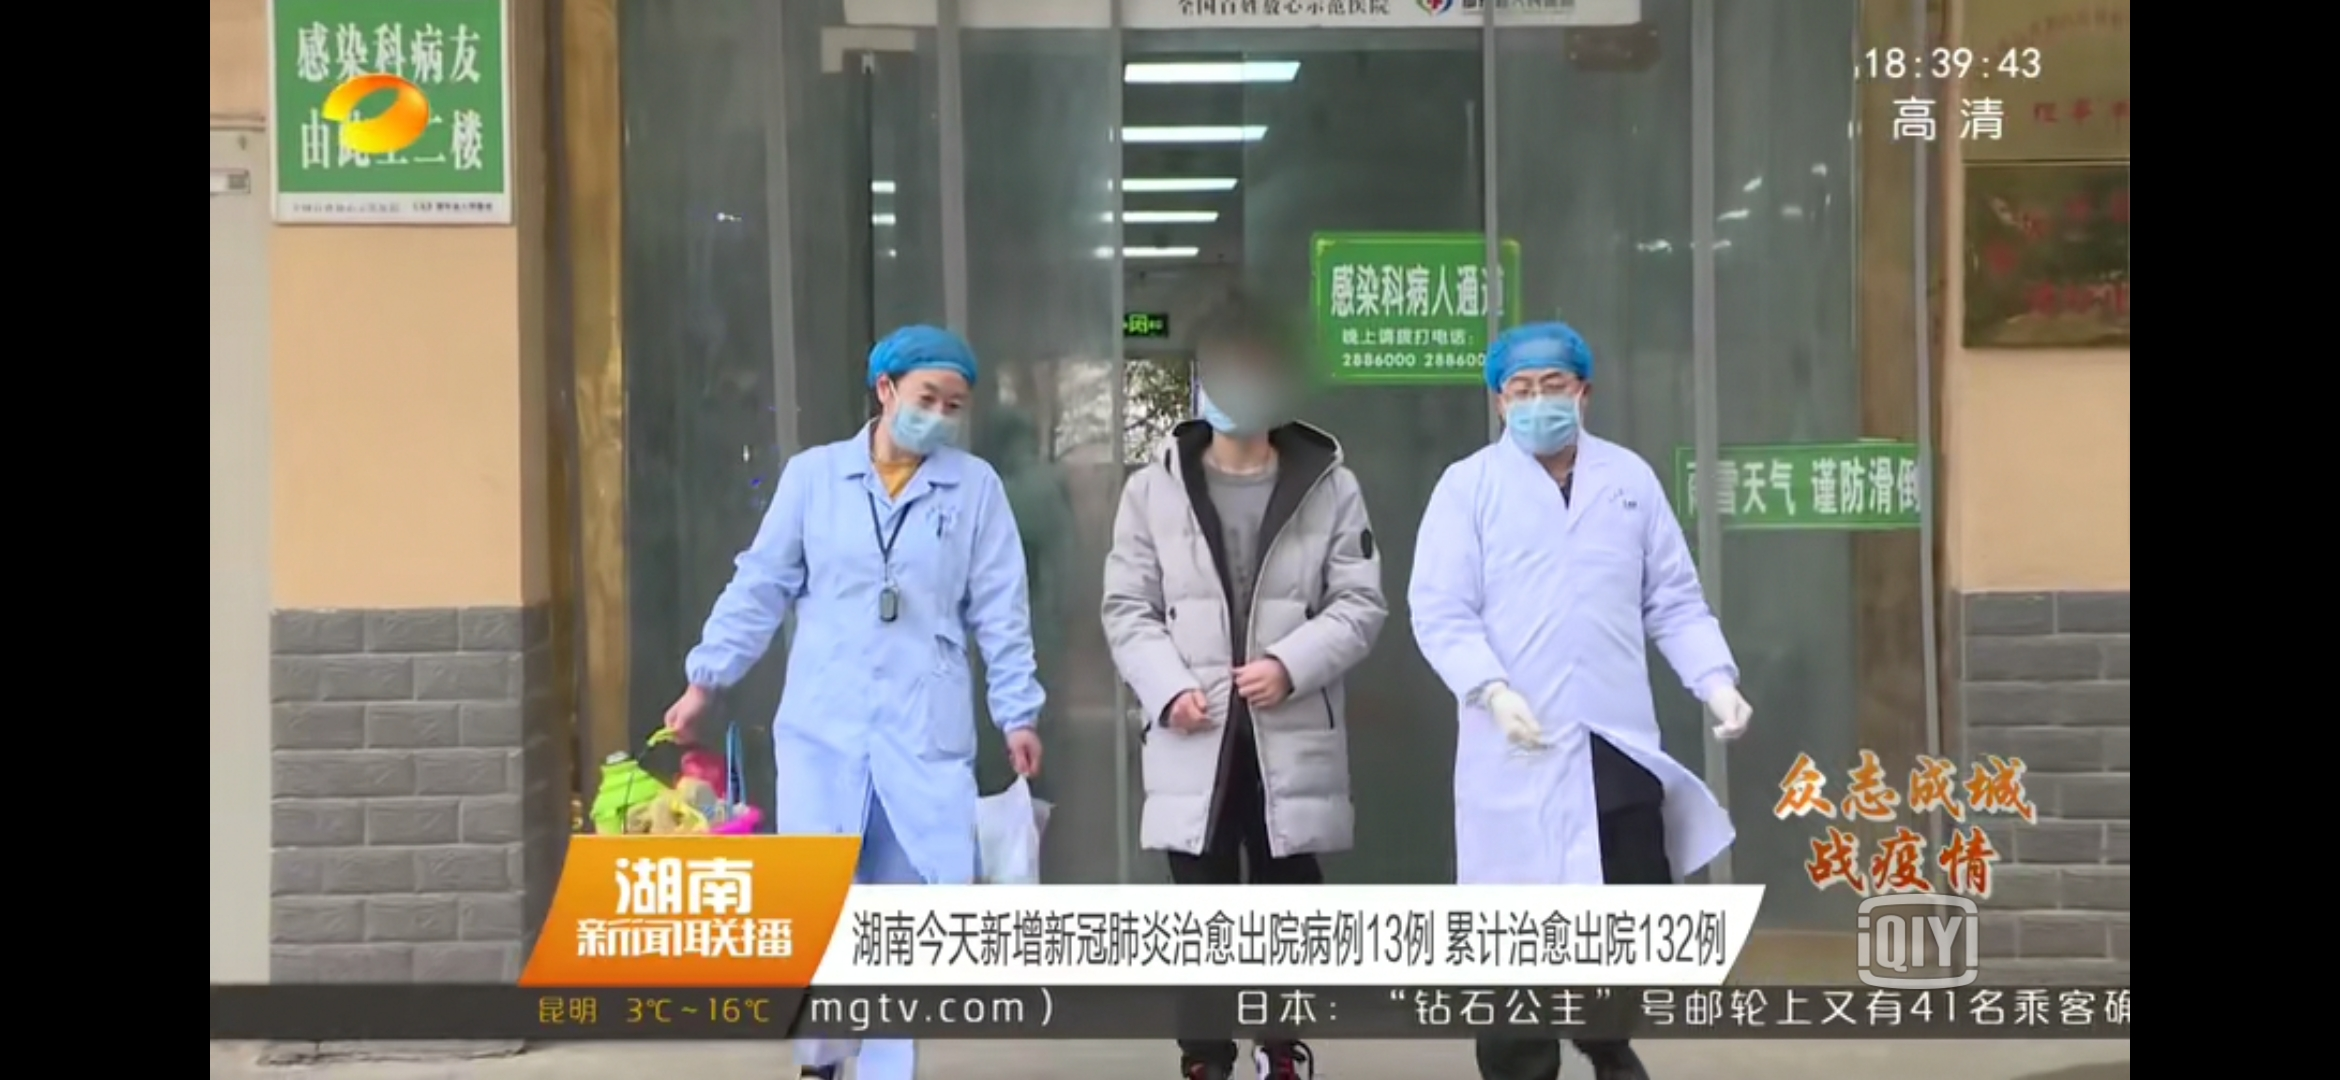correctlyWear: (1494, 354, 1588, 458), (870, 362, 972, 452)
